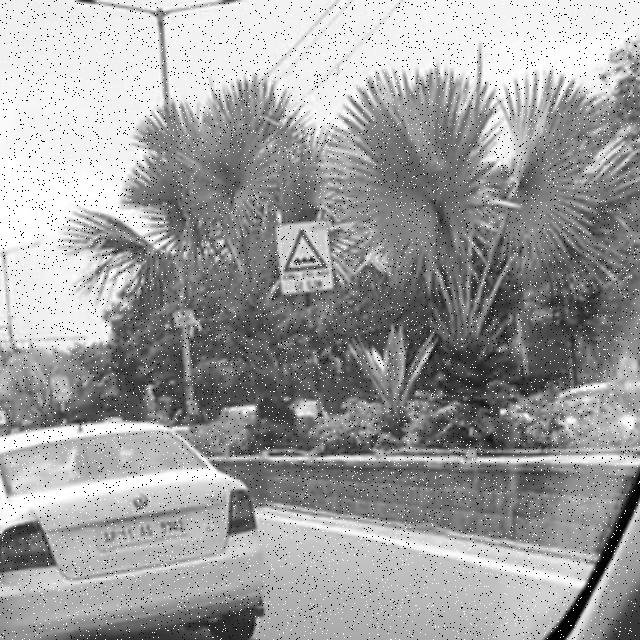Rumble_strip: (275, 217, 336, 301)
